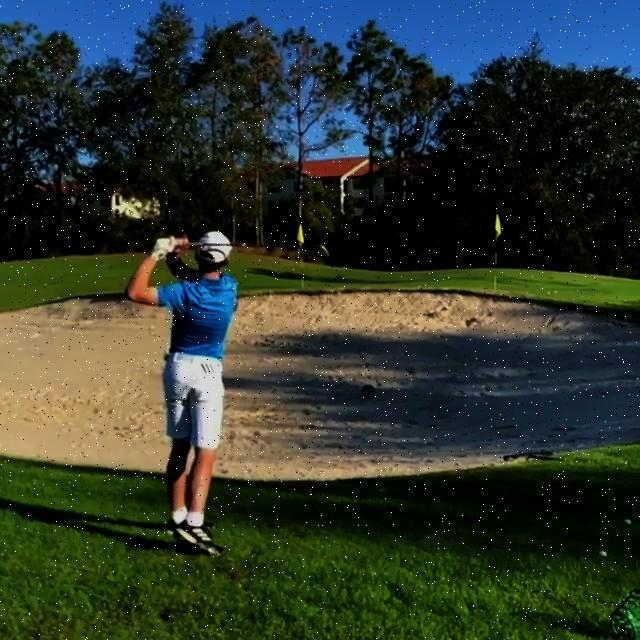ClubHead: (318, 244, 330, 260)
GolfBall: (599, 549, 609, 558), (623, 519, 632, 525)
